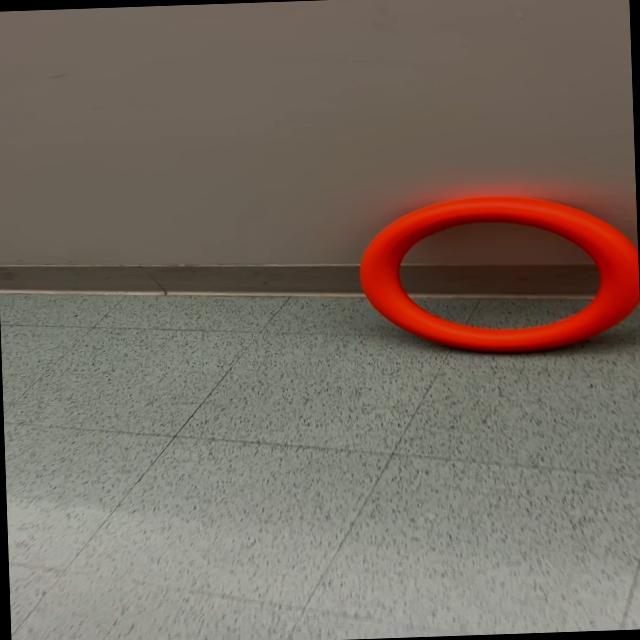note: (354, 190, 638, 358)
